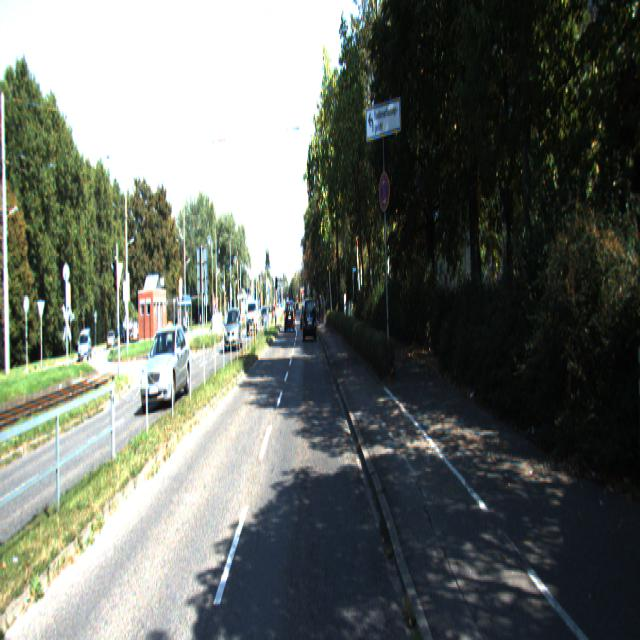Car: (141, 324, 191, 413), (224, 308, 242, 356), (303, 298, 317, 344), (285, 301, 295, 334)
